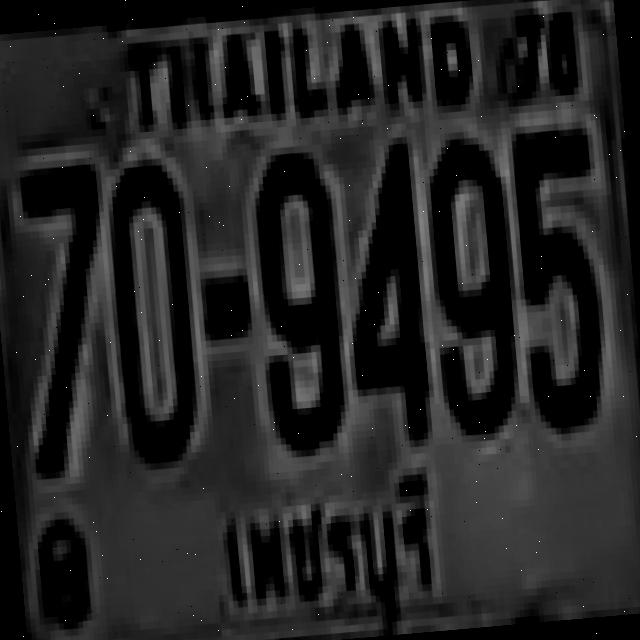0: (98, 157, 200, 458)
4: (330, 136, 432, 438)
5: (505, 121, 607, 422)
7: (9, 158, 116, 472), (14, 161, 107, 366)
9: (245, 144, 347, 445), (418, 129, 520, 430)
Phetchaburi: (202, 468, 452, 640)
